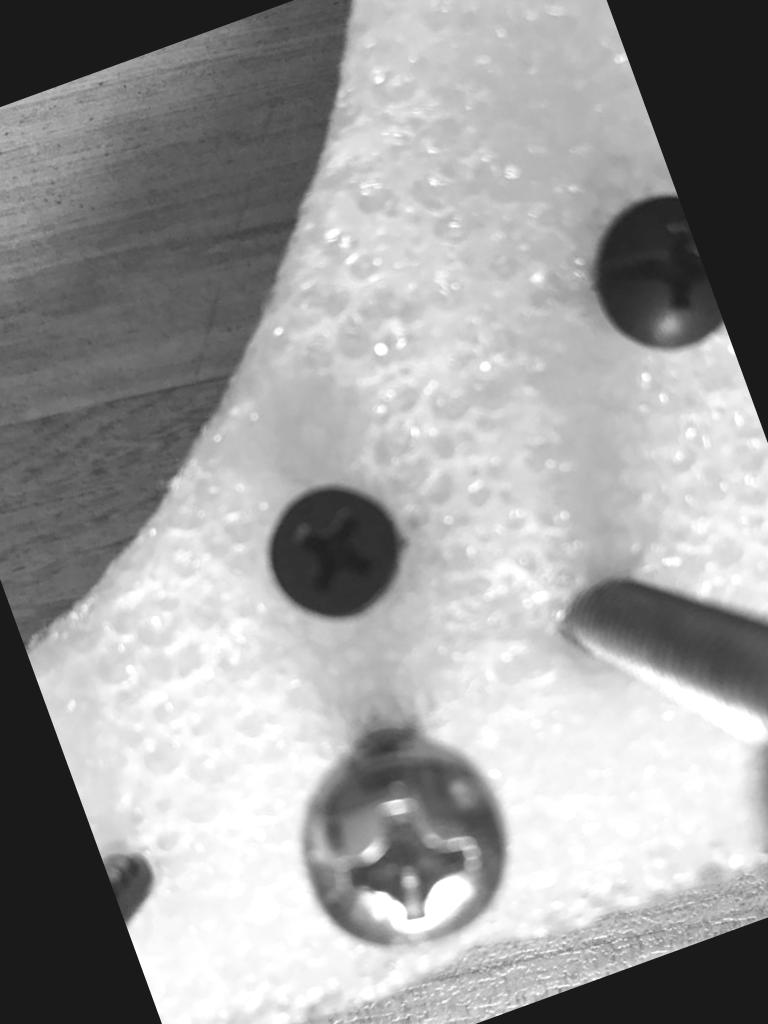philips-PZ: (278, 725, 529, 974), (576, 190, 728, 370), (252, 472, 418, 636)
